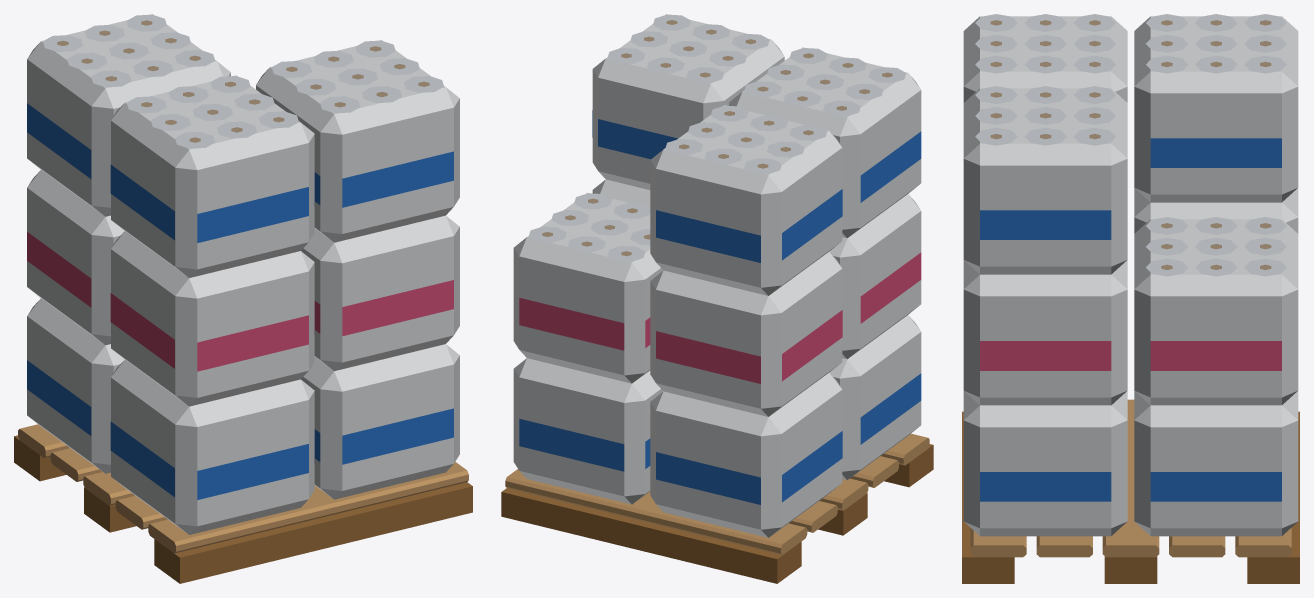
The model's file is market-prop3.glb.
3 views of the same model, side by side, from view 1: azimuth 30°, elevation 25°; view 2: azimuth 150°, elevation 25°; view 3: azimuth 270°, elevation 25° (orthographic). The views are drawn at different scales.
Parts seen in each view (by area): view 1: market-prop3; view 2: market-prop3; view 3: market-prop3.
Part boxes in pixels (bbox=[...]): market-prop3: bbox=[14, 14, 472, 583]; market-prop3: bbox=[501, 14, 933, 583]; market-prop3: bbox=[962, 14, 1299, 583].
Bounding box in the file's own units: 1.05 × 1.45 × 1.03.
